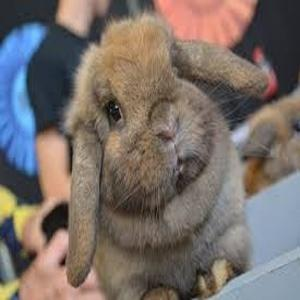rabbit: (63, 12, 267, 299)
